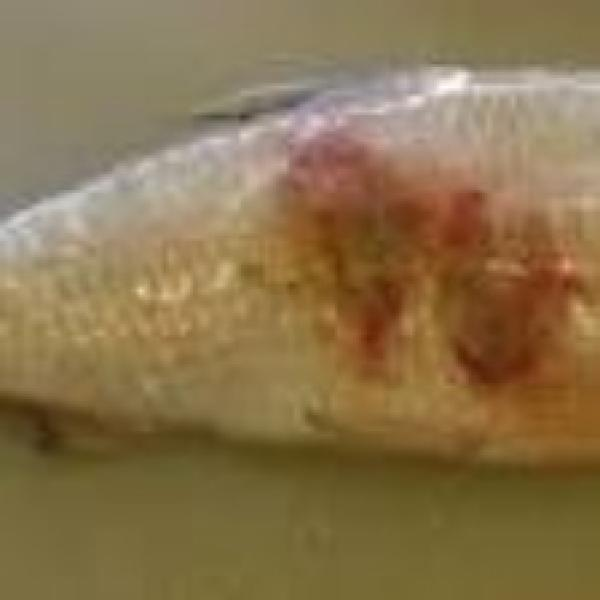bacterial_red: (295, 140, 424, 377), (439, 190, 569, 382)
